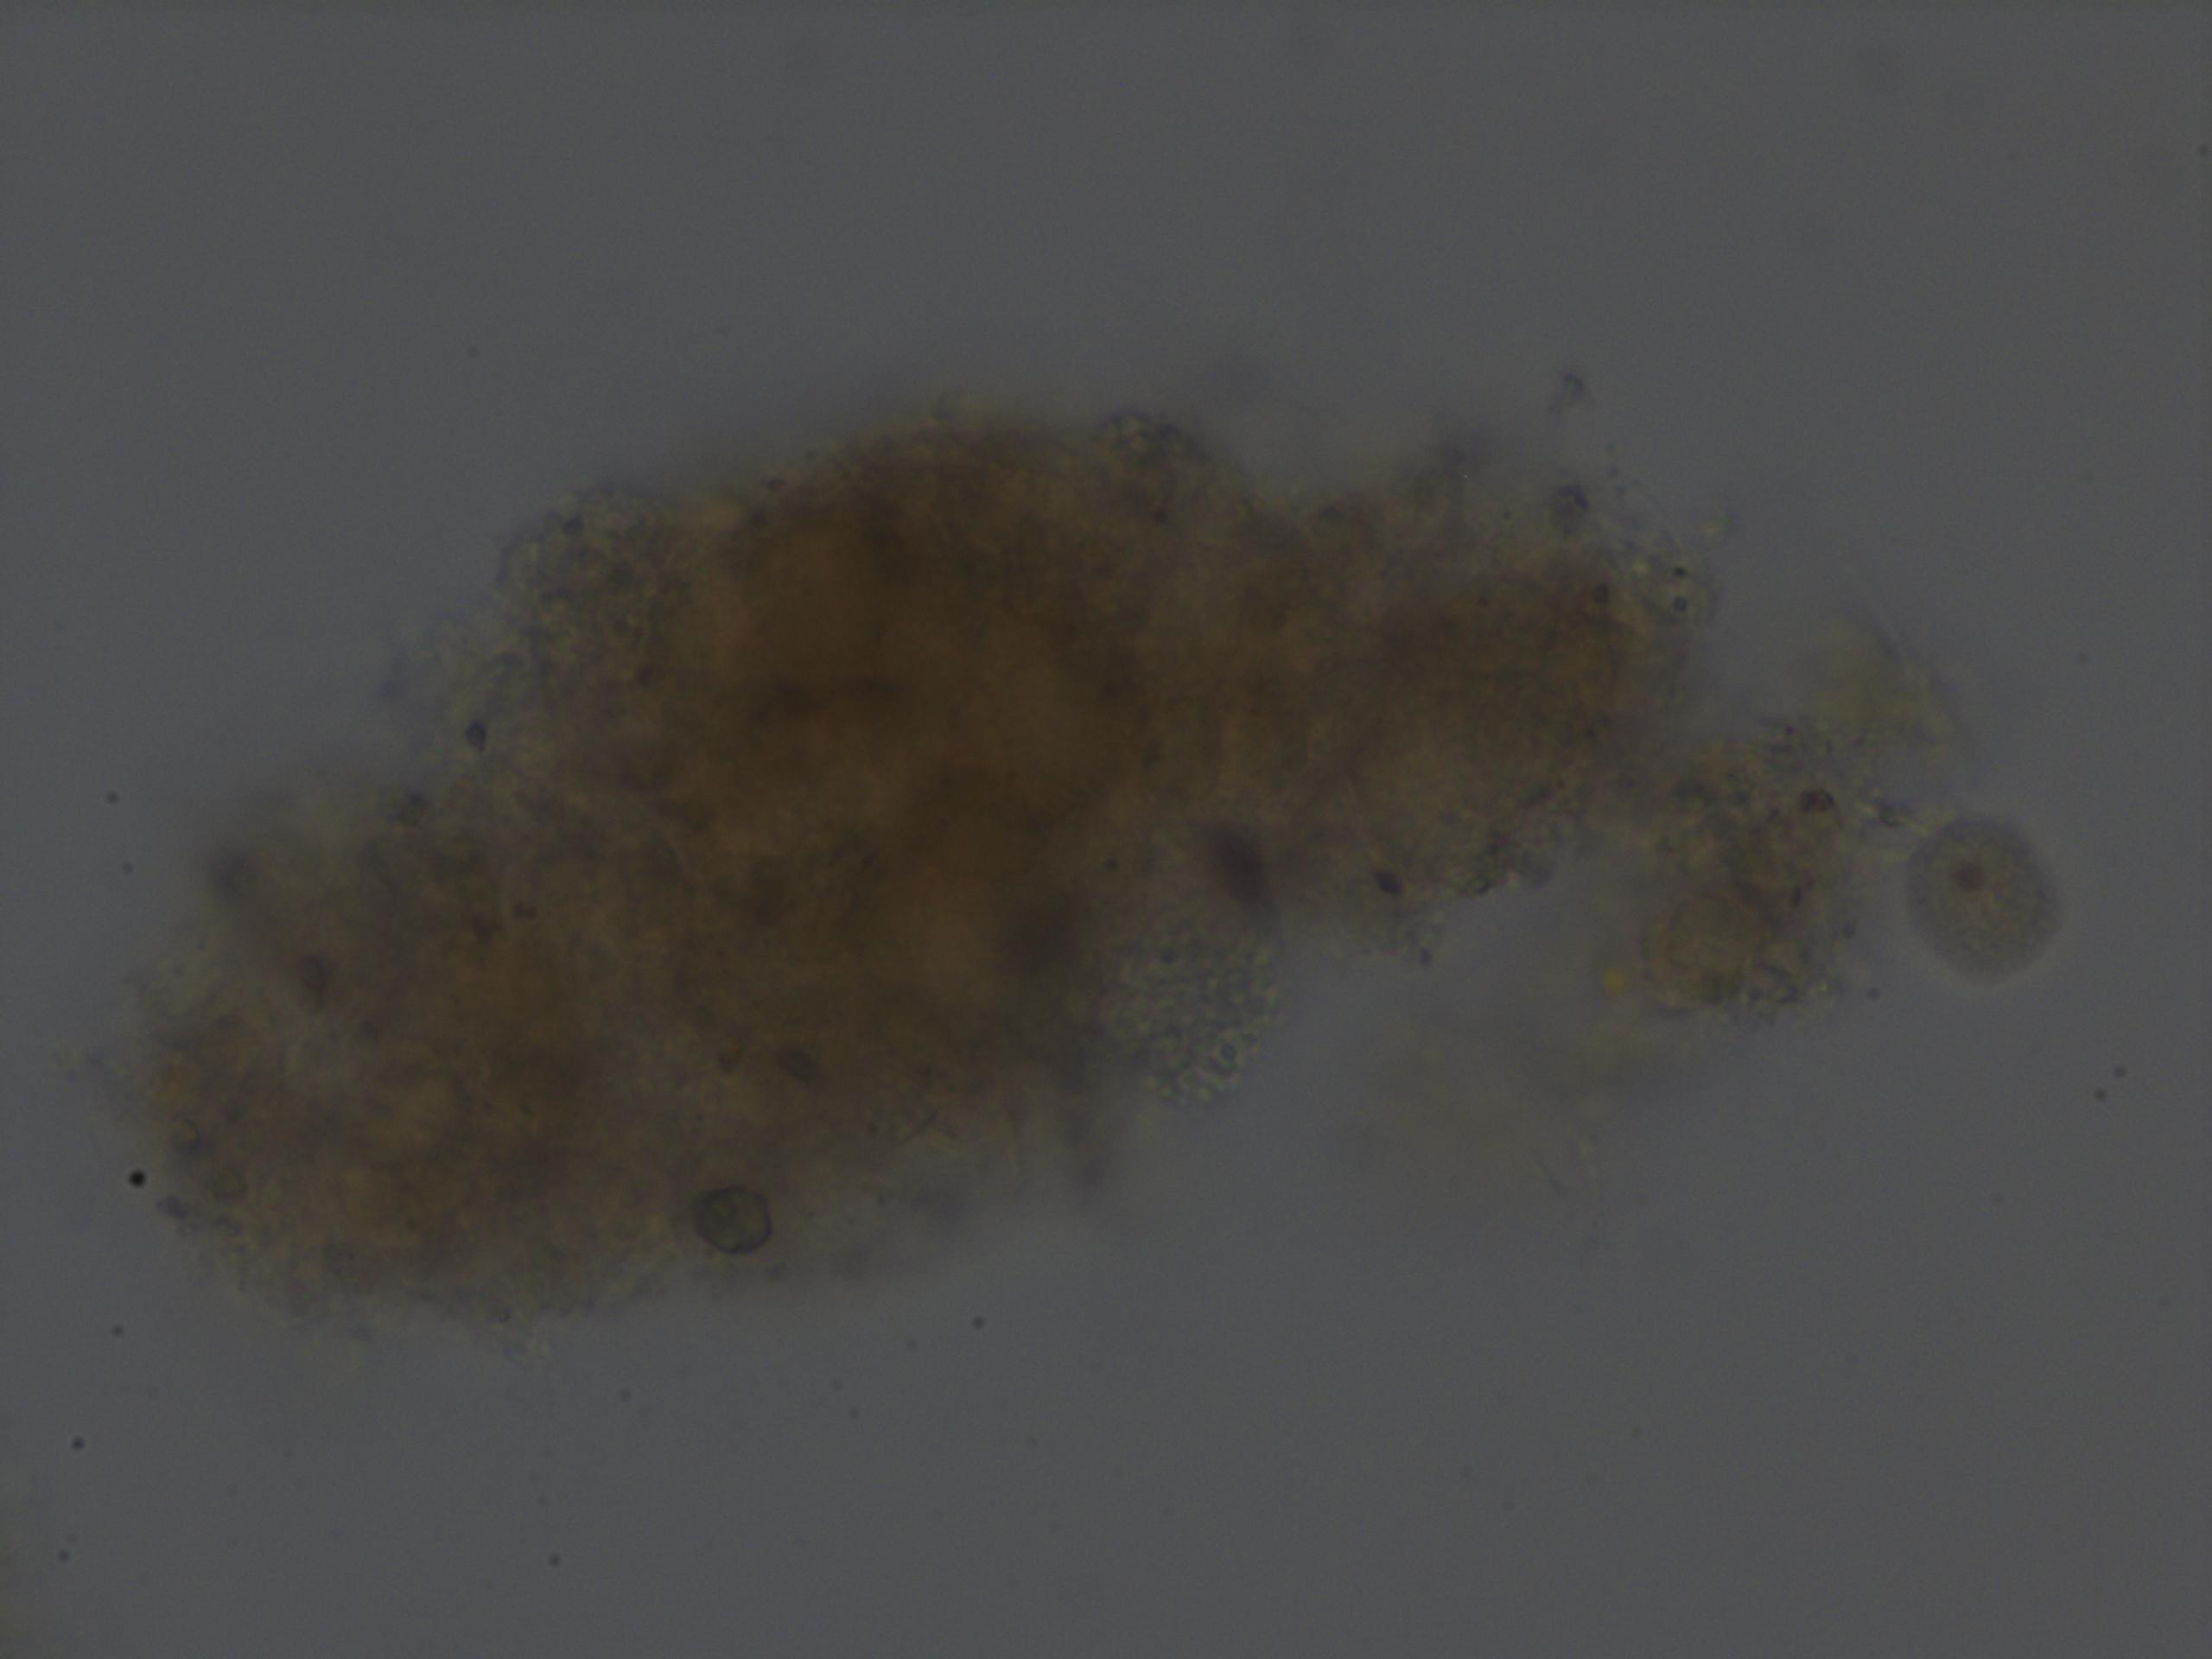spherical_floc: (111, 394, 1897, 1342)
